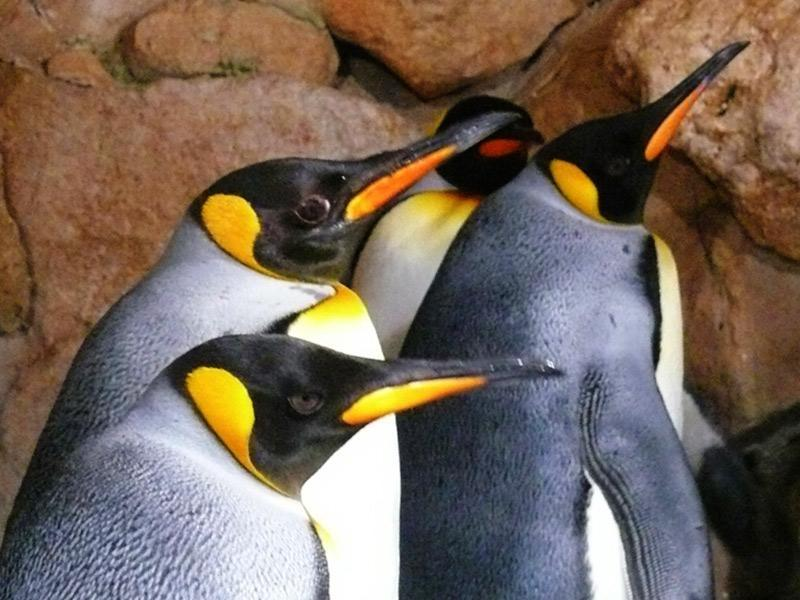Penguin: (0, 97, 559, 598), (398, 44, 744, 597), (0, 334, 558, 598), (351, 95, 543, 356)
